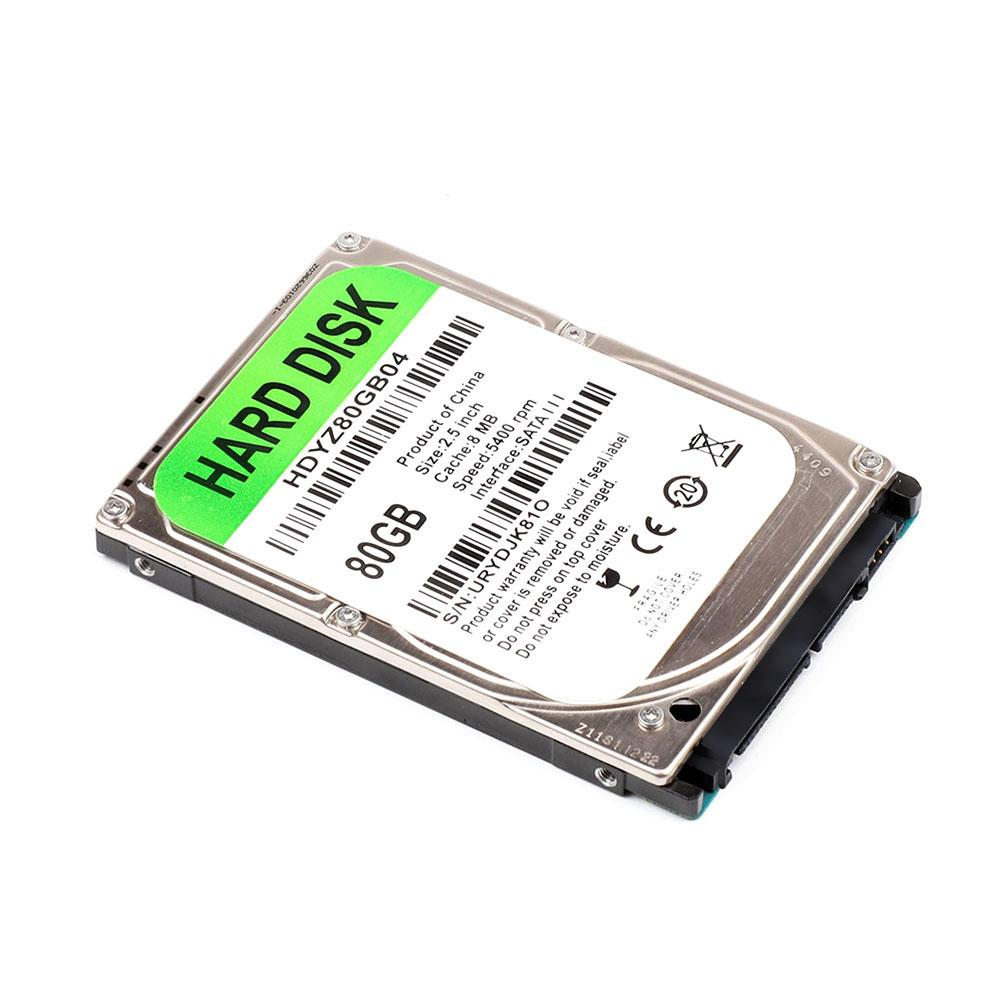internal HDD: (95, 231, 923, 819)
